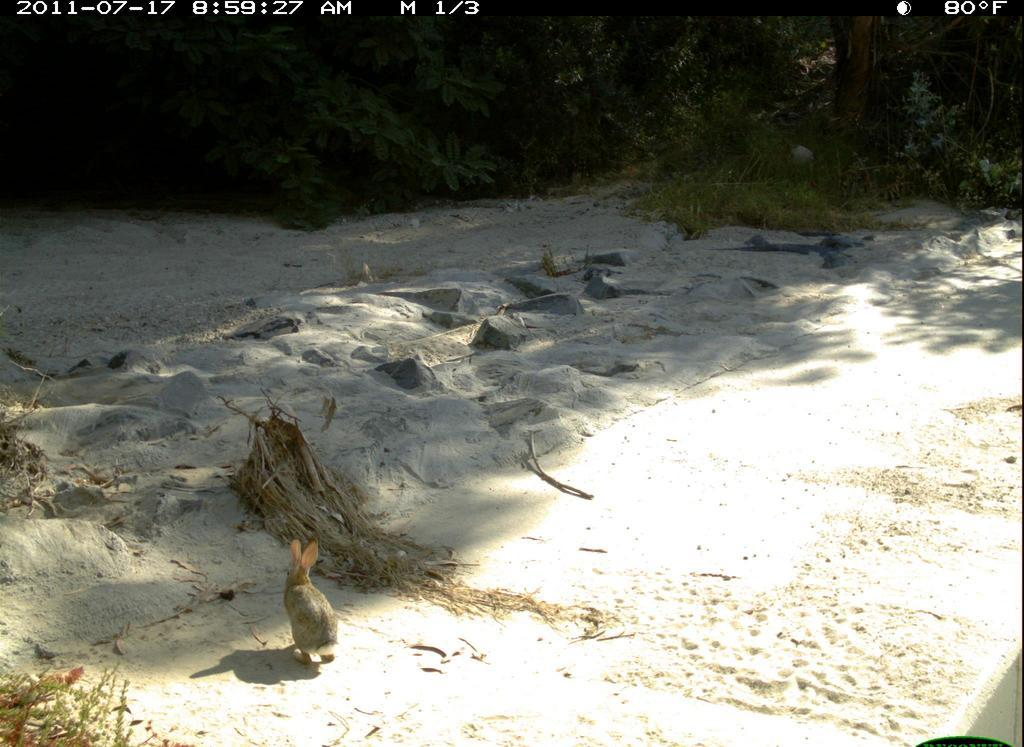rabbit: (276, 525, 356, 673)
